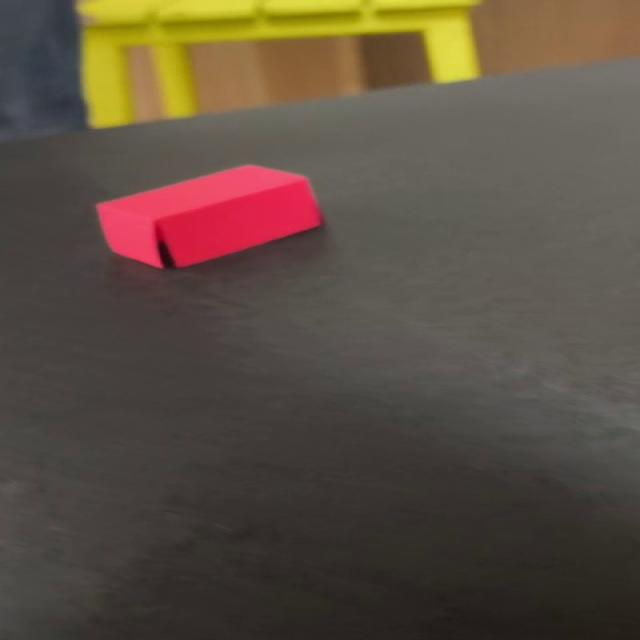red block: (93, 163, 324, 270)
